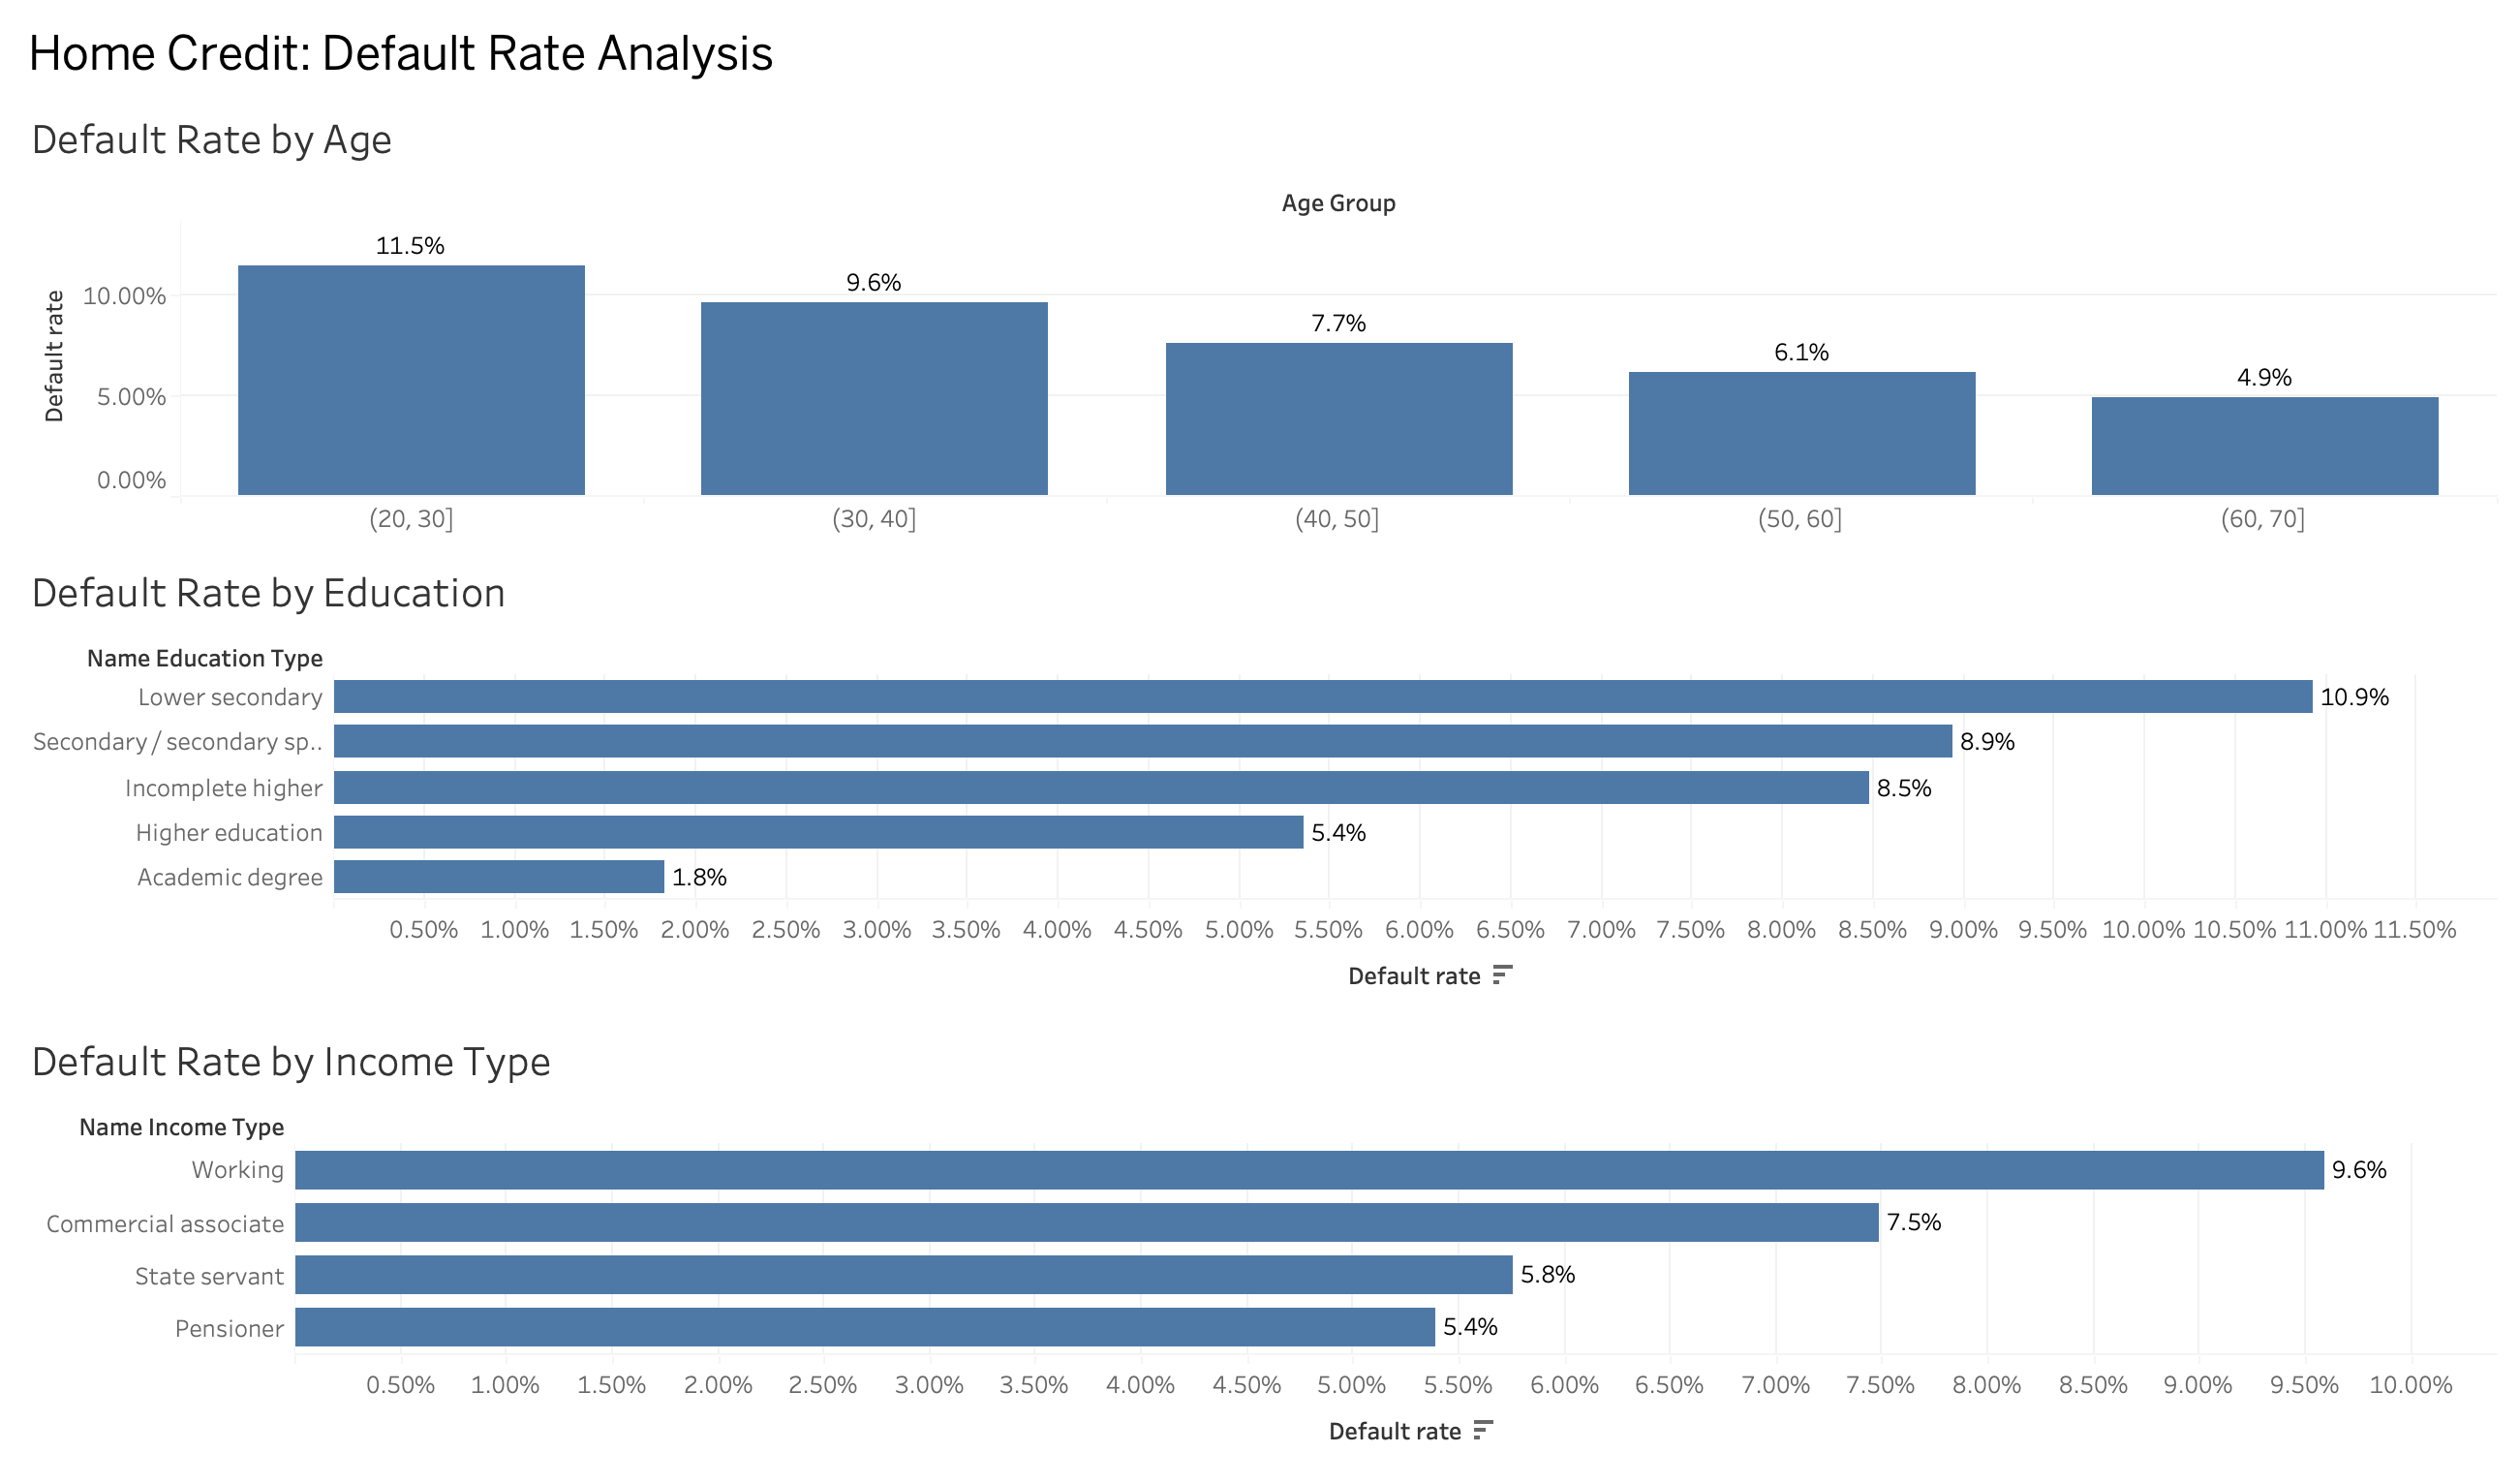

This screenshot's page, from the dashboard's own definition file:
{"tool":"tableau","page":{"name":"Dashboard 1","canvas":[1000,1000],"units":"permille","ordinal":0},"visuals":[{"type":"title","box":[6.4,10.4,987.2,50.9]},{"type":"worksheet","title":"Default Rate by Age","mark":"Automatic","rows":["TARGET"],"cols":["AGE_GROUP"],"box":[6.4,61.3,987.2,305.3]},{"type":"worksheet","title":"Default Rate by Education","mark":"Automatic","rows":["NAME_EDUCATION_TYPE"],"cols":["TARGET"],"box":[6.4,366.6,987.2,316.4]},{"type":"worksheet","title":"Default Rate by Income Type","mark":"Automatic","rows":["NAME_INCOME_TYPE"],"cols":["TARGET"],"box":[6.4,683,987.2,306.6]}]}

Visuals, with their boxes on the dashboard's canvas, which has no fixed pixel size, in thousandths of its width and height (x1, y1, x2, y2). These are canvas units, not pixel positions in the 2520x1484 screenshot, which may show the page scaled, cropped or inside an application window:
title: <box>6,10,994,61</box>
"Default Rate by Age" worksheet: <box>6,61,994,367</box>
"Default Rate by Education" worksheet: <box>6,367,994,683</box>
"Default Rate by Income Type" worksheet: <box>6,683,994,990</box>
